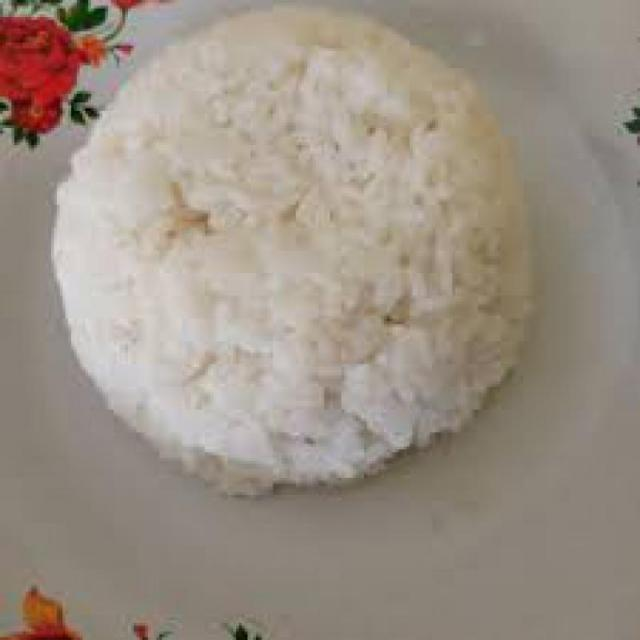rice: (55, 12, 530, 497)
